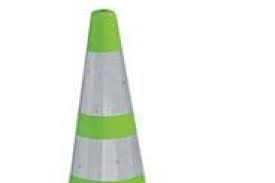cones: (69, 4, 152, 183)
